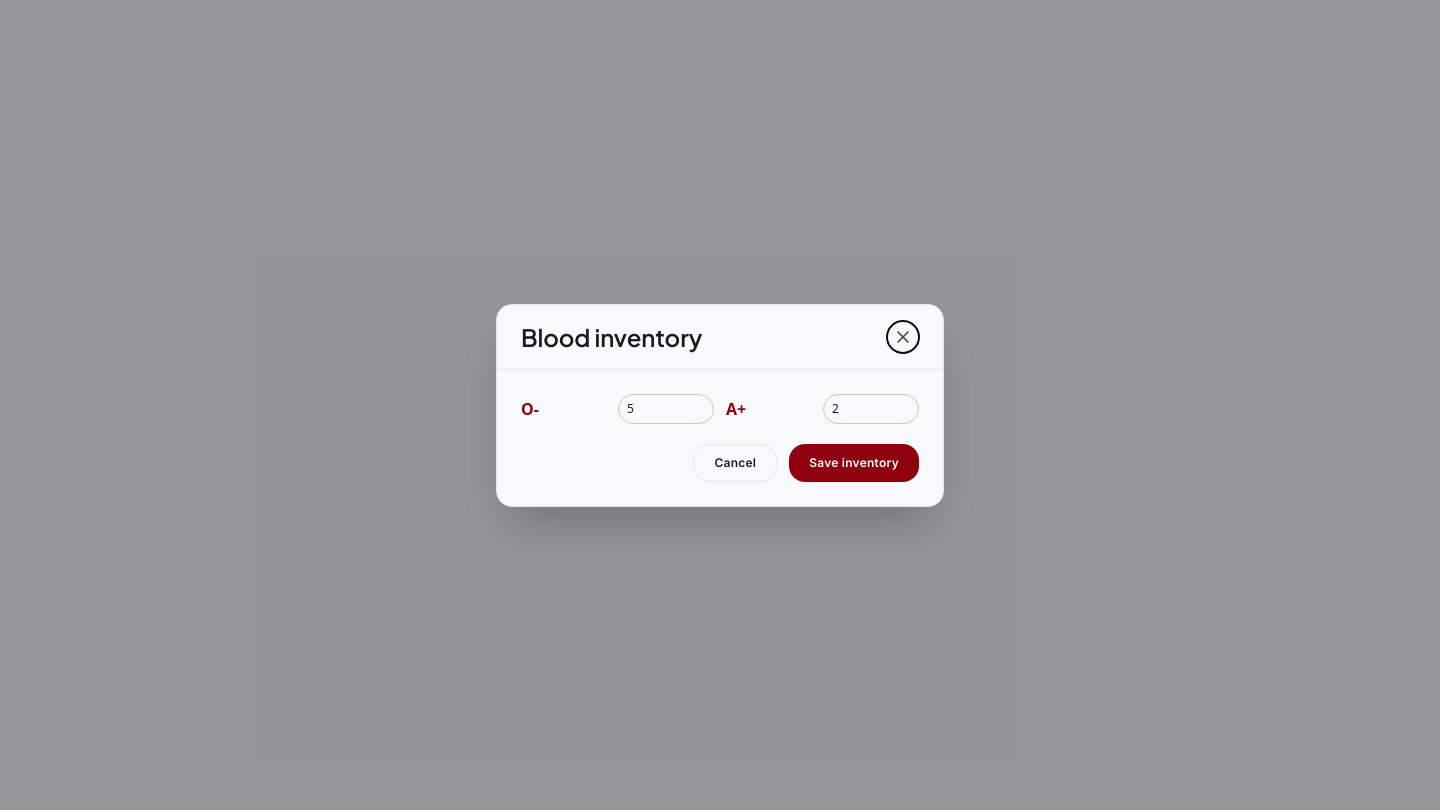
HospitalInventoryModal › clamps a non-numeric entry to 0 the same real way, rather than sending NaN
The image size is (1440, 810).
Replace the text in the number field labelled "O-" with "abc": (666, 408) [618,394,714,424]
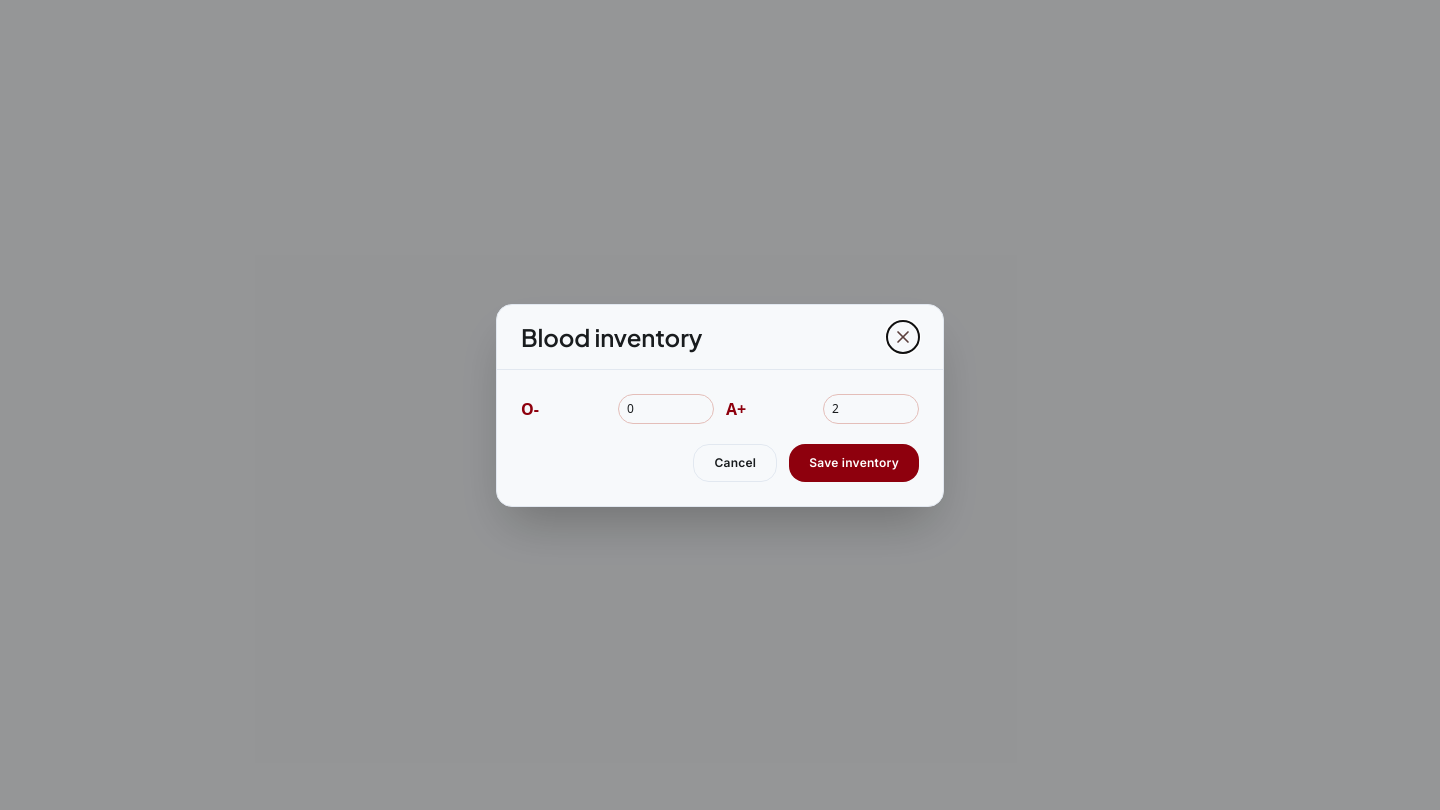
Check: the number field labelled "O-" holds "0", box [618,394,714,424]
